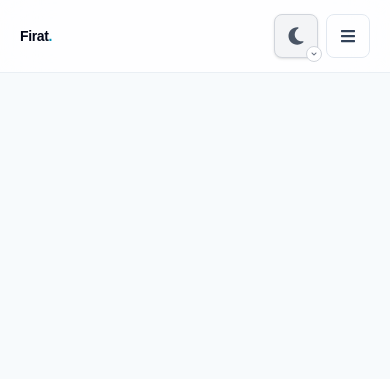
Test: Header › toggles the mobile menu toggle aria-label on click
This screenshot has width=390, height=379.
Click the button named "Open menu". click: (348, 36)
box: [326,14,370,58]
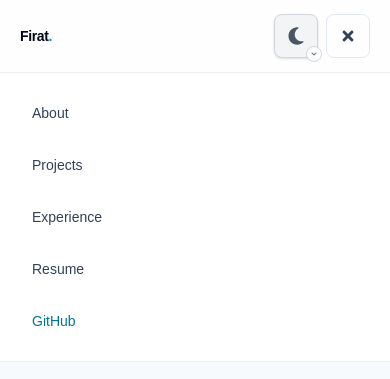
Check: the button named "Close menu" is shown, box [326,14,370,58]
